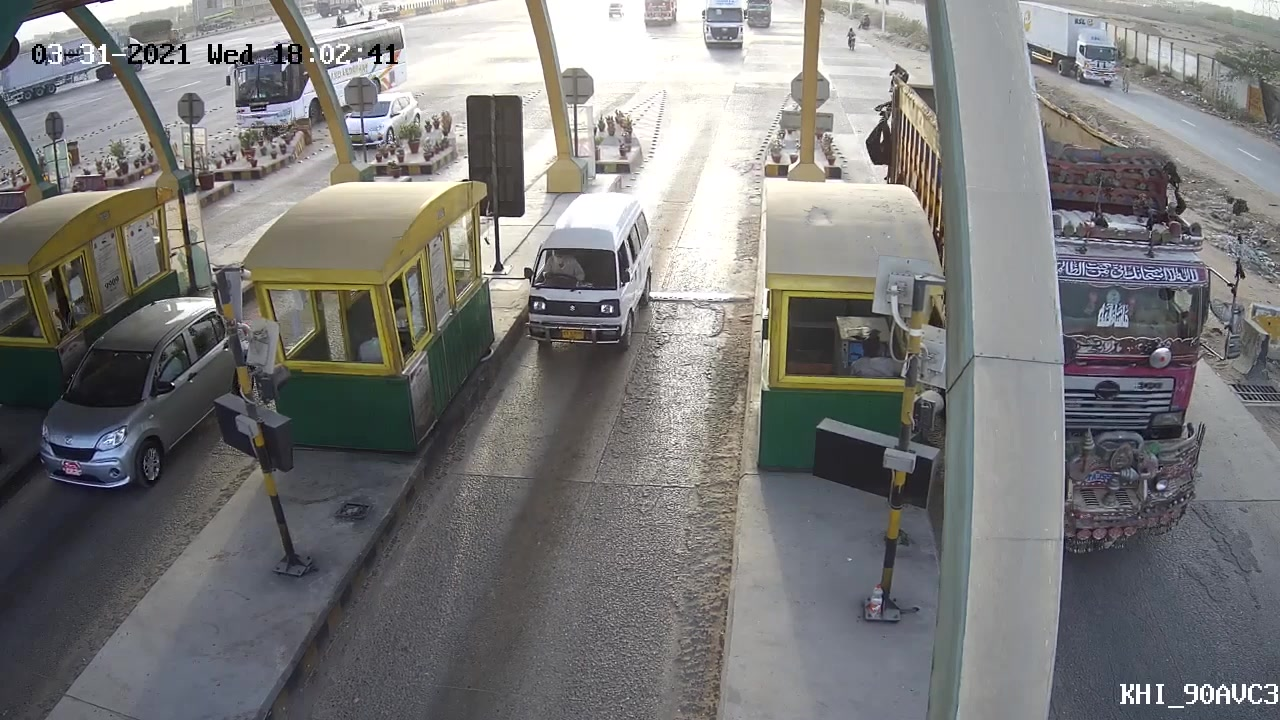F2: (505, 186, 662, 356)
